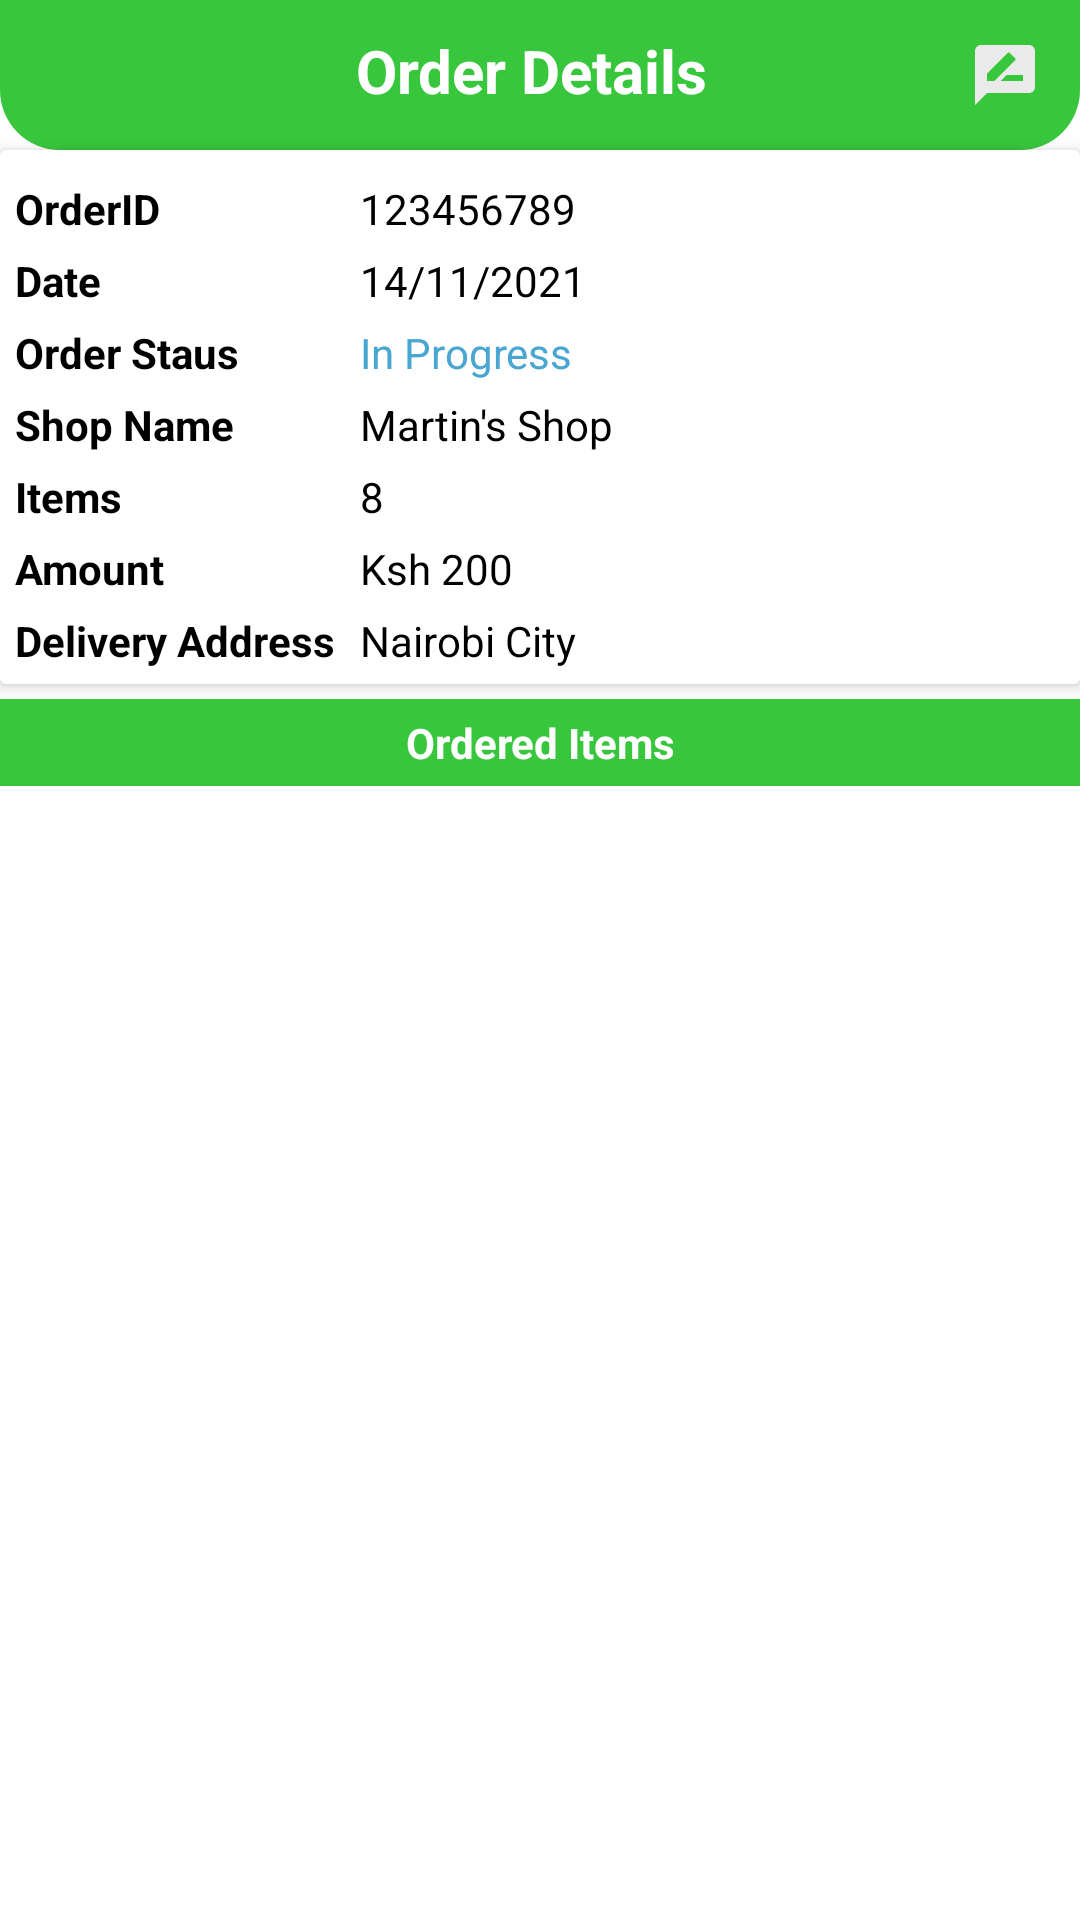

Icons on this 1080*1920 Android screen, each with the point to tap as (x=x, y=y):
review: (x=1005, y=75)
